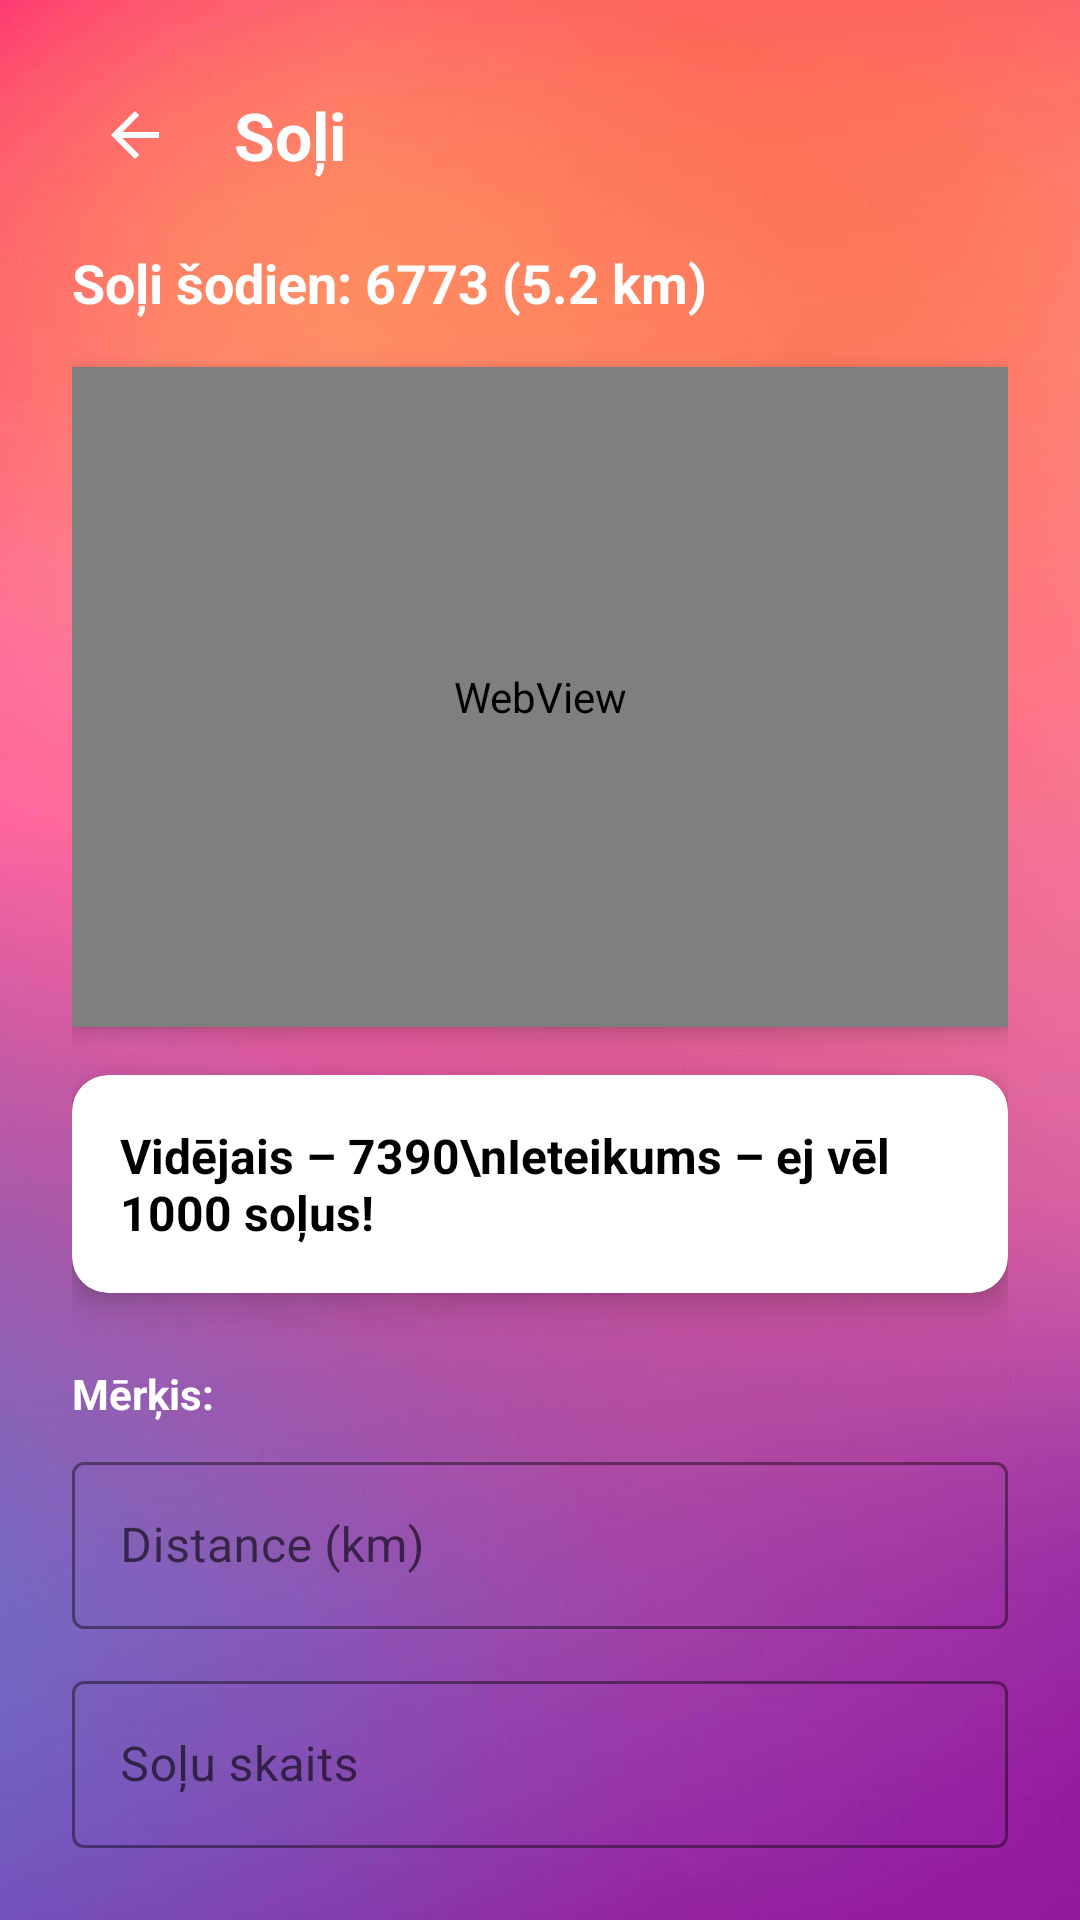

Named icons in this screenshot (1080*1920) and their bounding boxes, (x1, y1, x2, y2):
Back: (111, 111, 159, 159)
